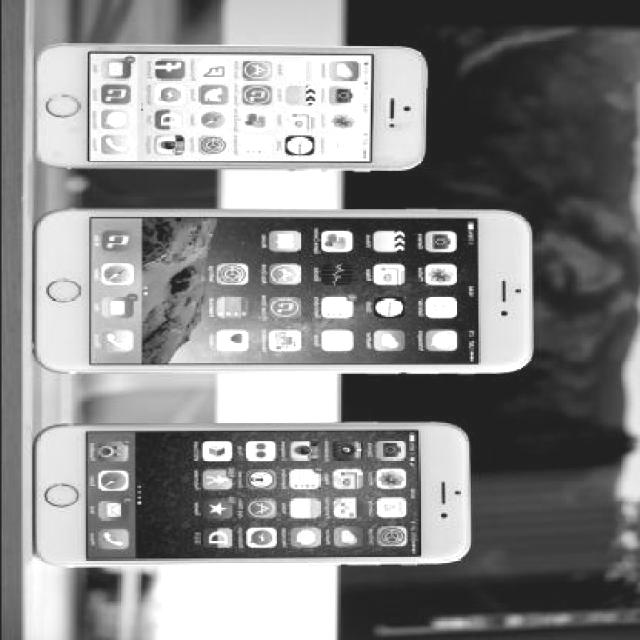fake: (30, 208, 532, 376), (28, 422, 470, 561), (30, 43, 428, 172)
